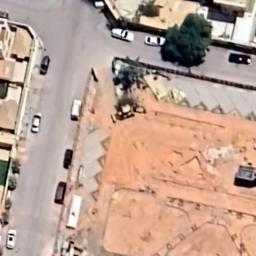sedan: (228, 51, 252, 66), (144, 35, 166, 47), (30, 112, 42, 134), (6, 228, 18, 250), (62, 148, 74, 170)
truck: (54, 180, 66, 204), (38, 55, 51, 75)
van: (110, 26, 136, 42), (70, 98, 82, 122)
